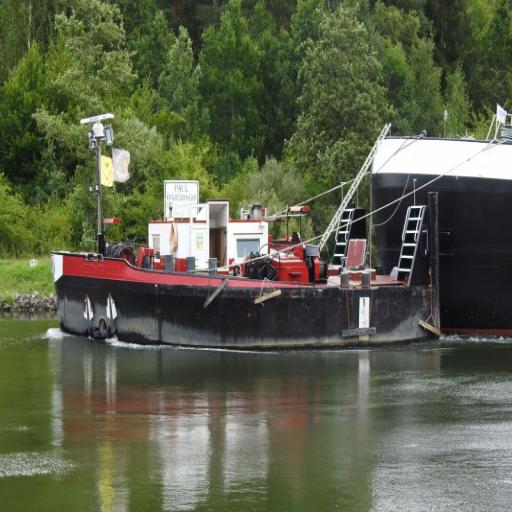tugboat: (50, 111, 447, 364)
